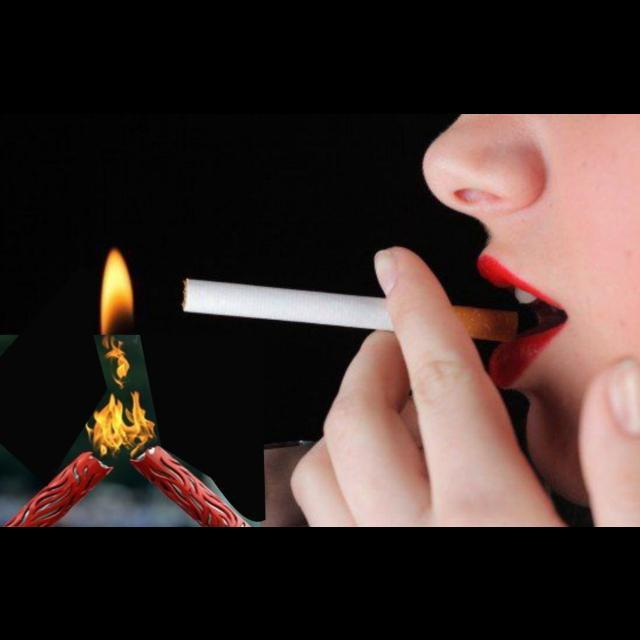rokok: (173, 264, 524, 350)
